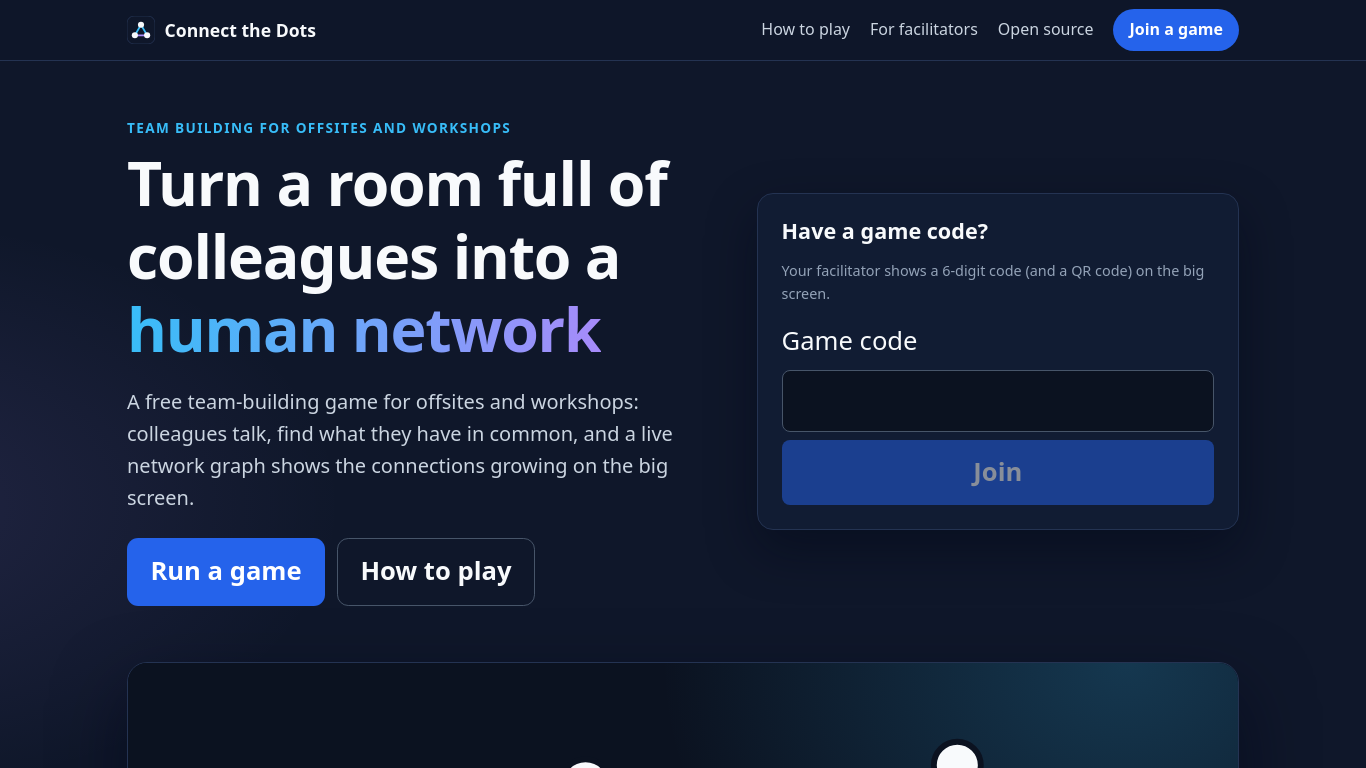
Scenario: joining › shows an error for a wrong code and stays on the page
The width and height of the screenshot is (1366, 768).
Step 1. Type "999999" into the field labelled "Game code" → (998, 401), box [782,370,1214,432]
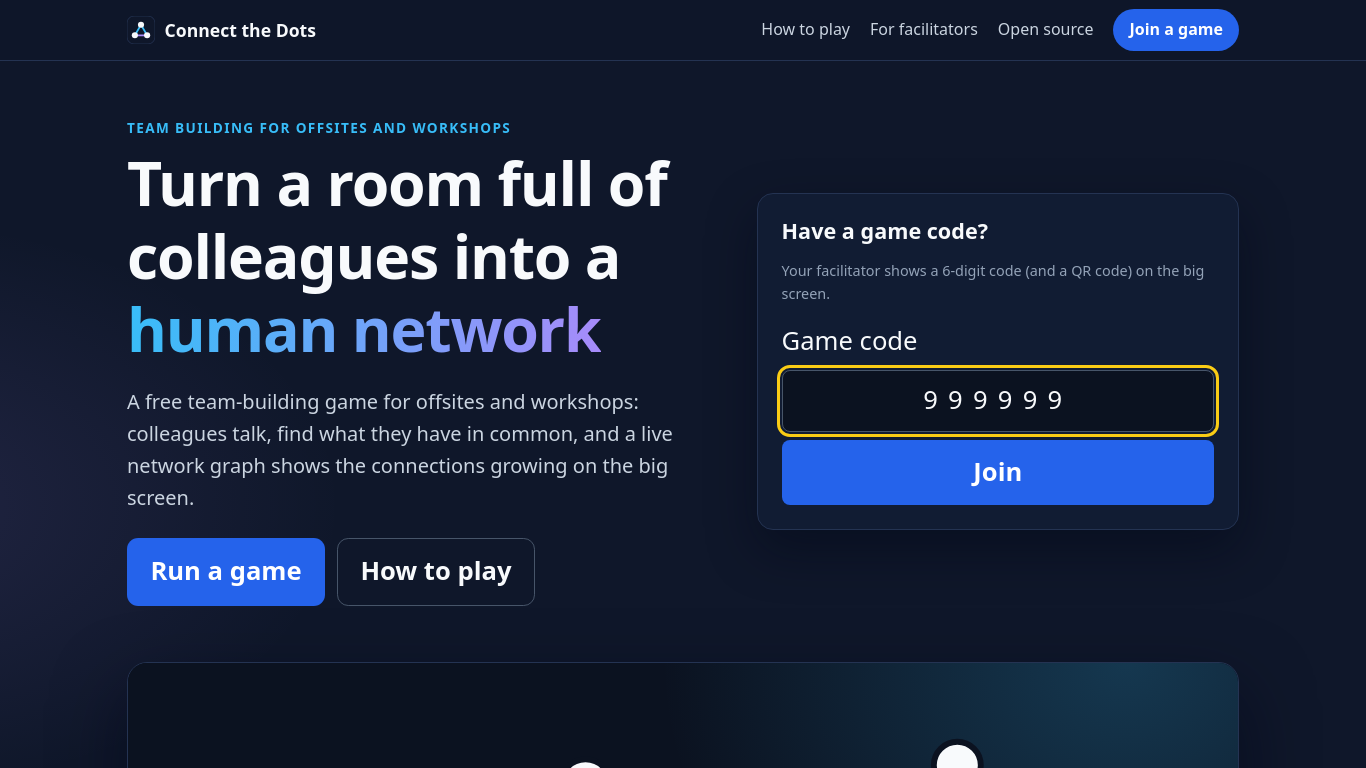
Step 2. Click the button "Join" → (998, 472), box [782,440,1214,505]
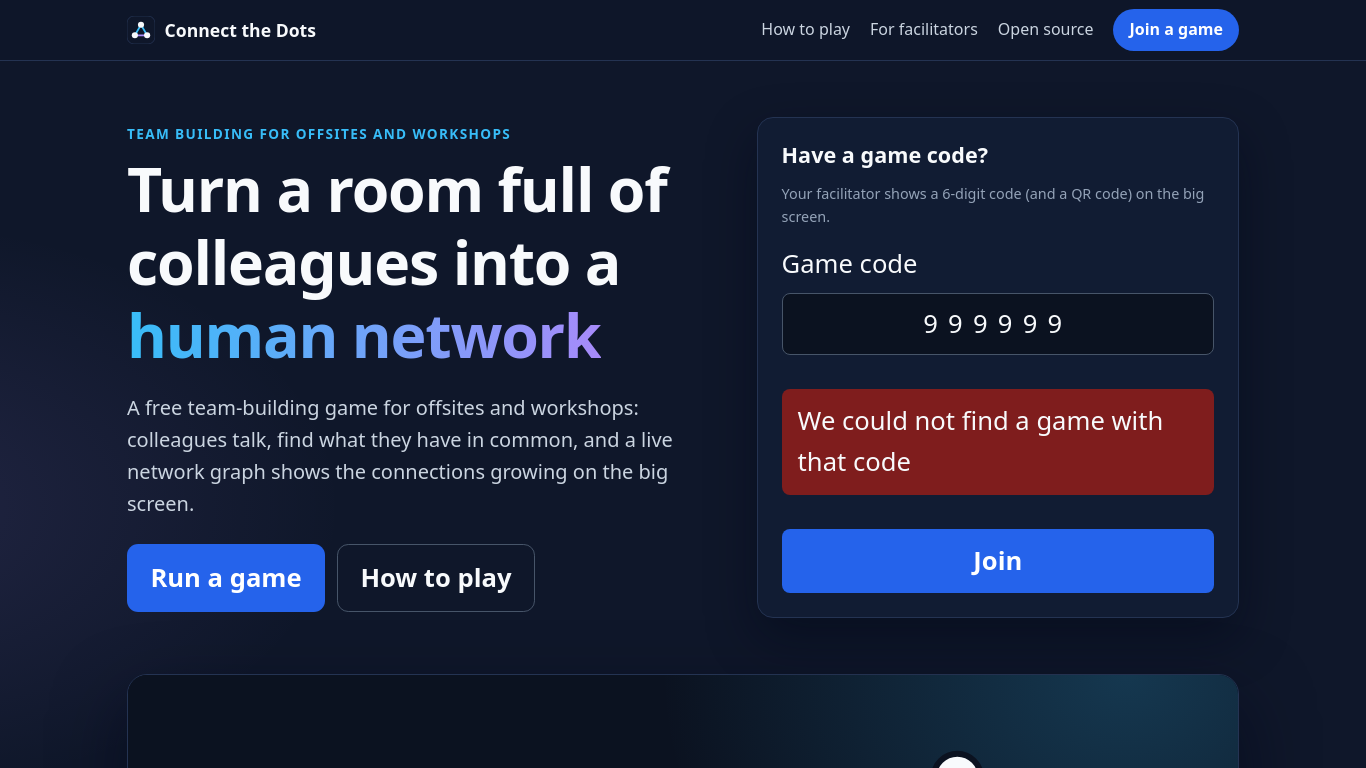
Now the message reads "We could not find a game with that code", box [798,403,1163,479]
